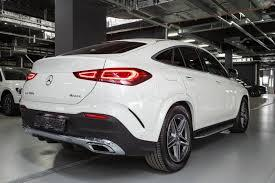mercedes: (42, 72, 59, 88)
